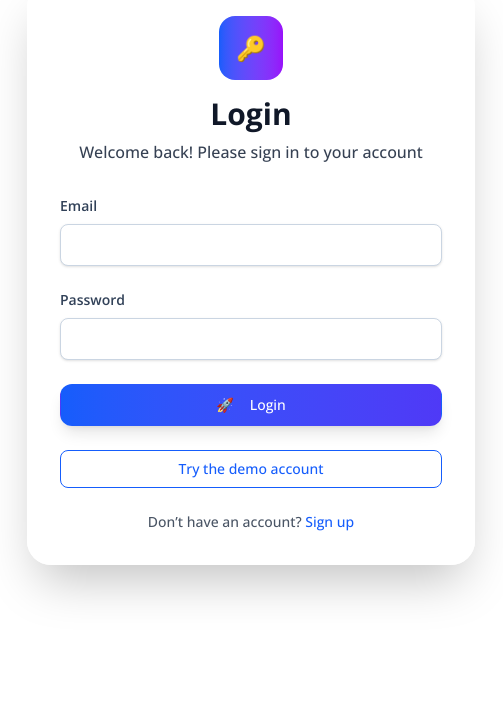
Scenario: LoginForm Component › a login answered 401 shows its own message
Type "user@example.com" into the field labelled "Email" at (251, 245), box [60, 224, 442, 266]
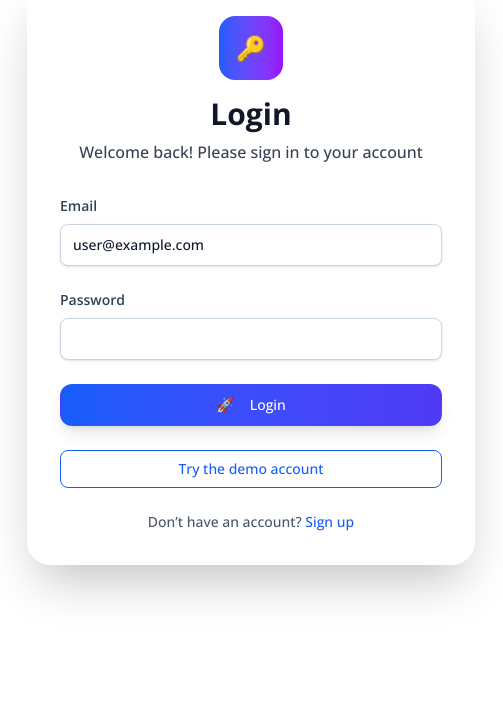
Type "password-123" into the password field labelled "Password" at (251, 339), box [60, 318, 442, 360]
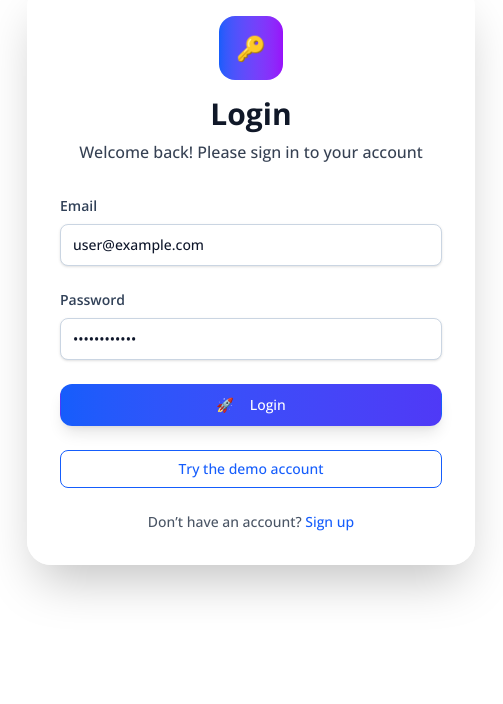
Click the button "🚀 Login" at (251, 405), box [60, 384, 442, 426]
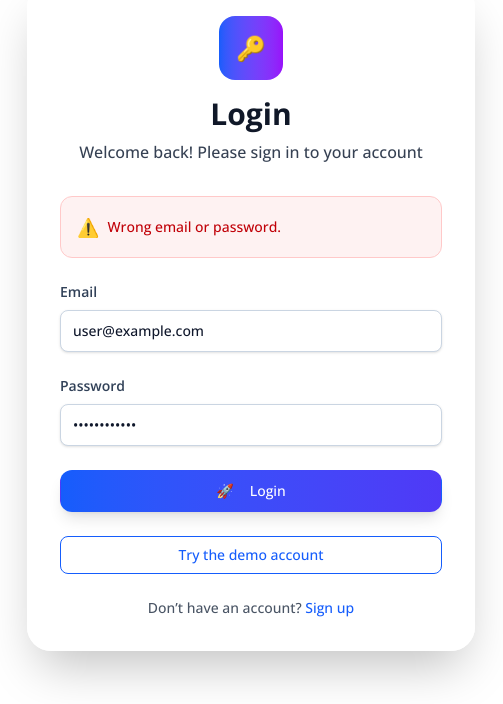
Check: the text "Wrong email or password." is shown, box [108, 217, 281, 237]
